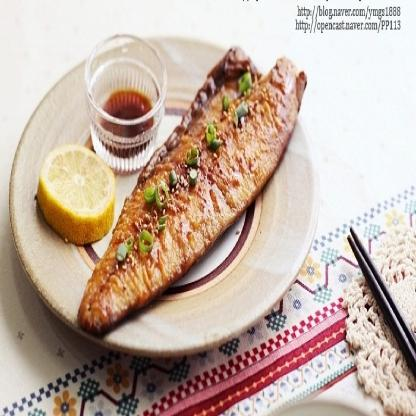Peixe: (80, 40, 313, 341)
